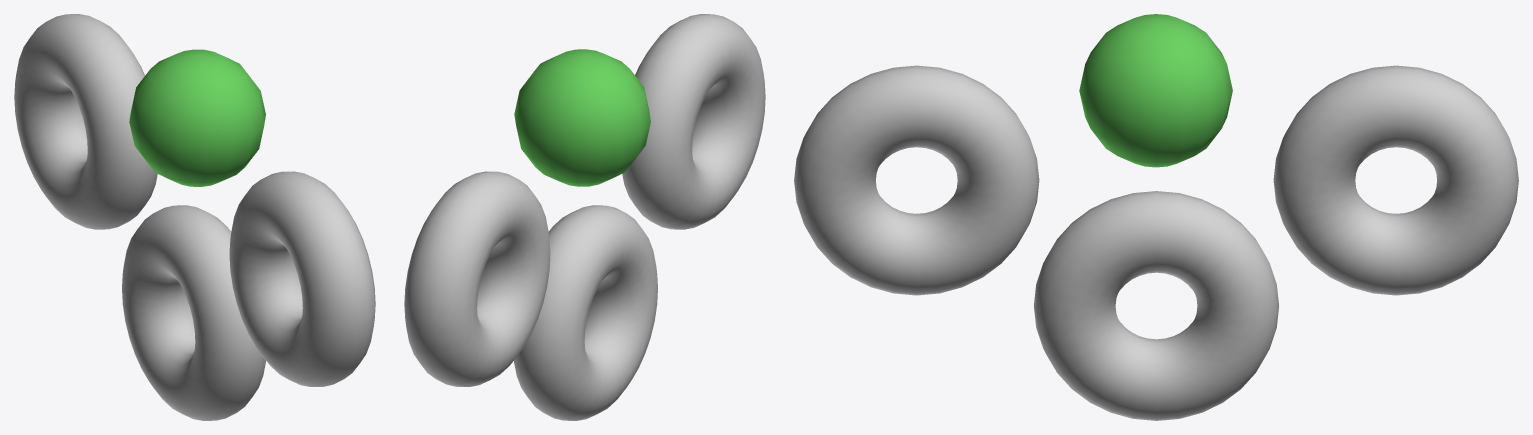
File: Head5.fbx
3 renders of one model, left to right at view 1: azimuth 30°, elevation 25°; view 2: azimuth 150°, elevation 25°; view 3: azimuth 270°, elevation 25°, orthographic. The views are drawn at different scales.
Parts seen in each view (by area): view 1: Head5Torus1, Head5Torus3, Head5Torus2, Head5Sphere; view 2: Head5Torus3, Head5Torus1, Head5Torus2, Head5Sphere; view 3: Head5Torus2, Head5Torus1, Head5Torus3, Head5Sphere.
Part boxes in pixels (x1=…): Head5Torus1: x1=229, y1=171, x2=375, y2=386; Head5Torus3: x1=14, y1=14, x2=157, y2=229; Head5Torus2: x1=122, y1=205, x2=265, y2=420; Head5Sphere: x1=129, y1=49, x2=265, y2=186; Head5Torus3: x1=404, y1=171, x2=550, y2=386; Head5Torus1: x1=622, y1=14, x2=765, y2=229; Head5Torus2: x1=514, y1=205, x2=657, y2=420; Head5Sphere: x1=514, y1=49, x2=650, y2=186; Head5Torus2: x1=1034, y1=191, x2=1278, y2=420; Head5Torus1: x1=794, y1=65, x2=1039, y2=295; Head5Torus3: x1=1273, y1=65, x2=1518, y2=295; Head5Sphere: x1=1079, y1=14, x2=1232, y2=167.
Size of the model in its own units: 25.43 by 72.58 by 120.
